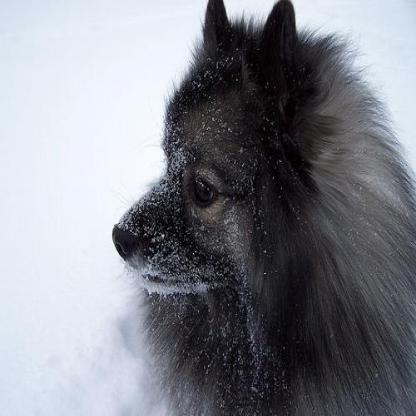keeshond: (108, 0, 414, 414)
